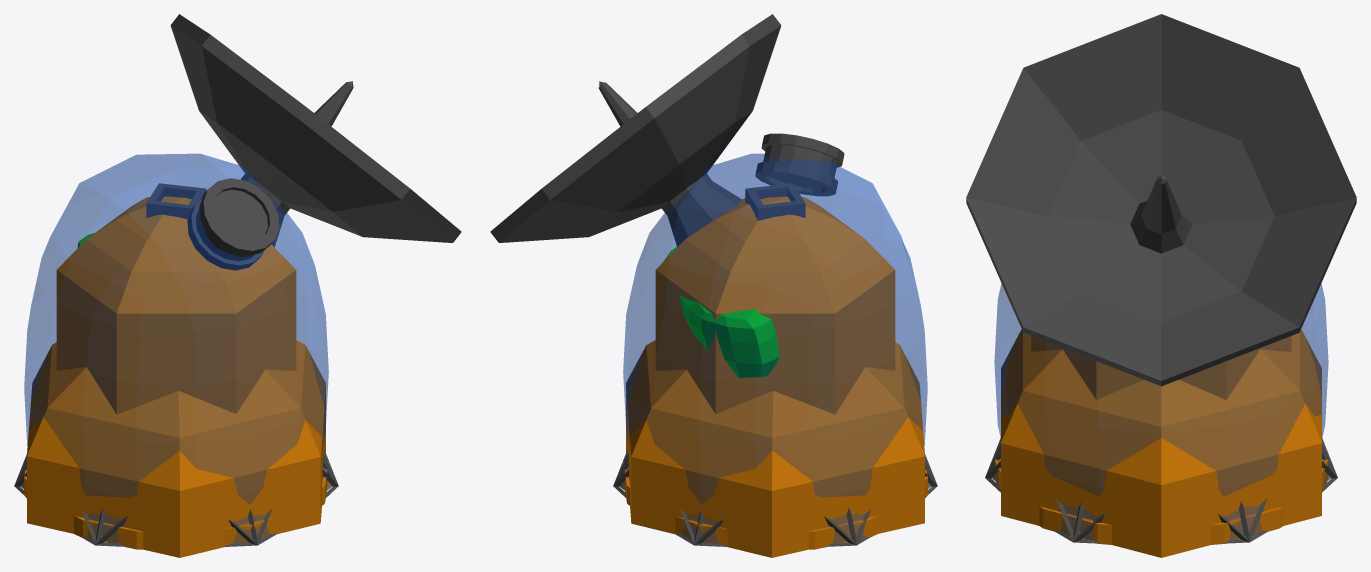
Rendered from turret.obj.
The picture shows the model from 3 angles, left to right: view 1: azimuth 30°, elevation 25°; view 2: azimuth 150°, elevation 25°; view 3: azimuth 270°, elevation 25°; orthographic projection. The views are drawn at different scales.
Visible parts, largest first — view 1: Cylinder.005, Cube.001, Cylinder.004, Cone.001, Cylinder.007, Cylinder.006, Circle.003, Circle.004; view 2: Cylinder.005, Cube.001, Cylinder.004, Cone.001, drzewoA.001, Cylinder.007, Cylinder.006, Circle.003, Circle.004; view 3: Cone.001, Cube.001, Cylinder.005, Cylinder.004, Cylinder.006, Circle.003, Circle.004.
Boxes of the visible parts, box(x1,y1,x2,y2) form: Cylinder.005: box(24, 153, 328, 503); Cube.001: box(27, 183, 325, 557); Cylinder.004: box(21, 196, 331, 542); Cone.001: box(170, 14, 461, 246); Cylinder.007: box(187, 178, 279, 270); Cylinder.006: box(24, 462, 328, 549); Circle.003: box(14, 450, 338, 546); Circle.004: box(20, 462, 332, 542); Cylinder.005: box(623, 153, 927, 503); Cube.001: box(626, 183, 924, 557); Cylinder.004: box(620, 196, 930, 542); Cone.001: box(490, 14, 781, 246); drzewoA.001: box(663, 246, 779, 377); Cylinder.007: box(755, 133, 844, 196); Cylinder.006: box(623, 462, 927, 549); Circle.003: box(613, 450, 937, 546); Circle.004: box(619, 462, 931, 542); Cone.001: box(966, 14, 1356, 386); Cube.001: box(1001, 329, 1321, 557); Cylinder.005: box(994, 283, 1328, 496); Cylinder.004: box(992, 336, 1330, 539); Cylinder.006: box(994, 458, 1328, 544); Circle.003: box(985, 438, 1337, 543); Circle.004: box(991, 454, 1331, 539).
Size of the model in its own units: 11.68 by 12.29 by 9.
